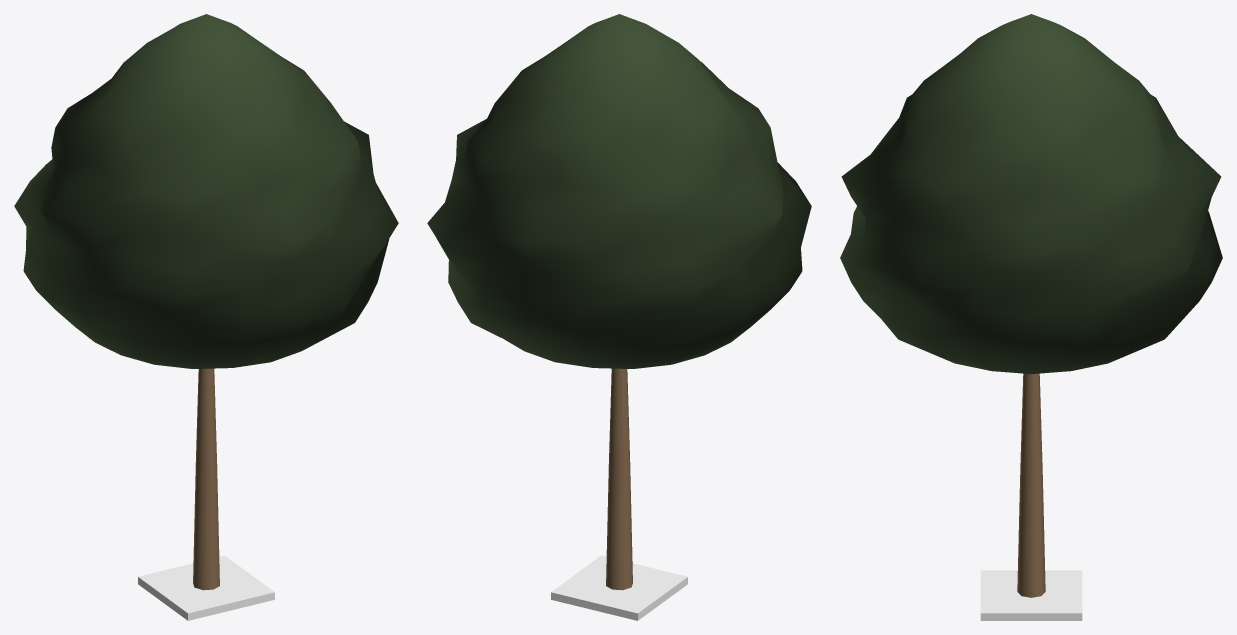
The picture shows the model from 3 angles, left to right: view 1: azimuth 30°, elevation 25°; view 2: azimuth 150°, elevation 25°; view 3: azimuth 270°, elevation 25°; orthographic projection.
Visible parts, largest first — view 1: 466; view 2: 466; view 3: 466.
Boxes of the visible parts, x1,y1,x2,y2 form: 466: (14,14,398,620); 466: (427,14,811,620); 466: (840,14,1222,620).
Bounding box in the file's own units: 3.2 × 5.4 × 3.2.
